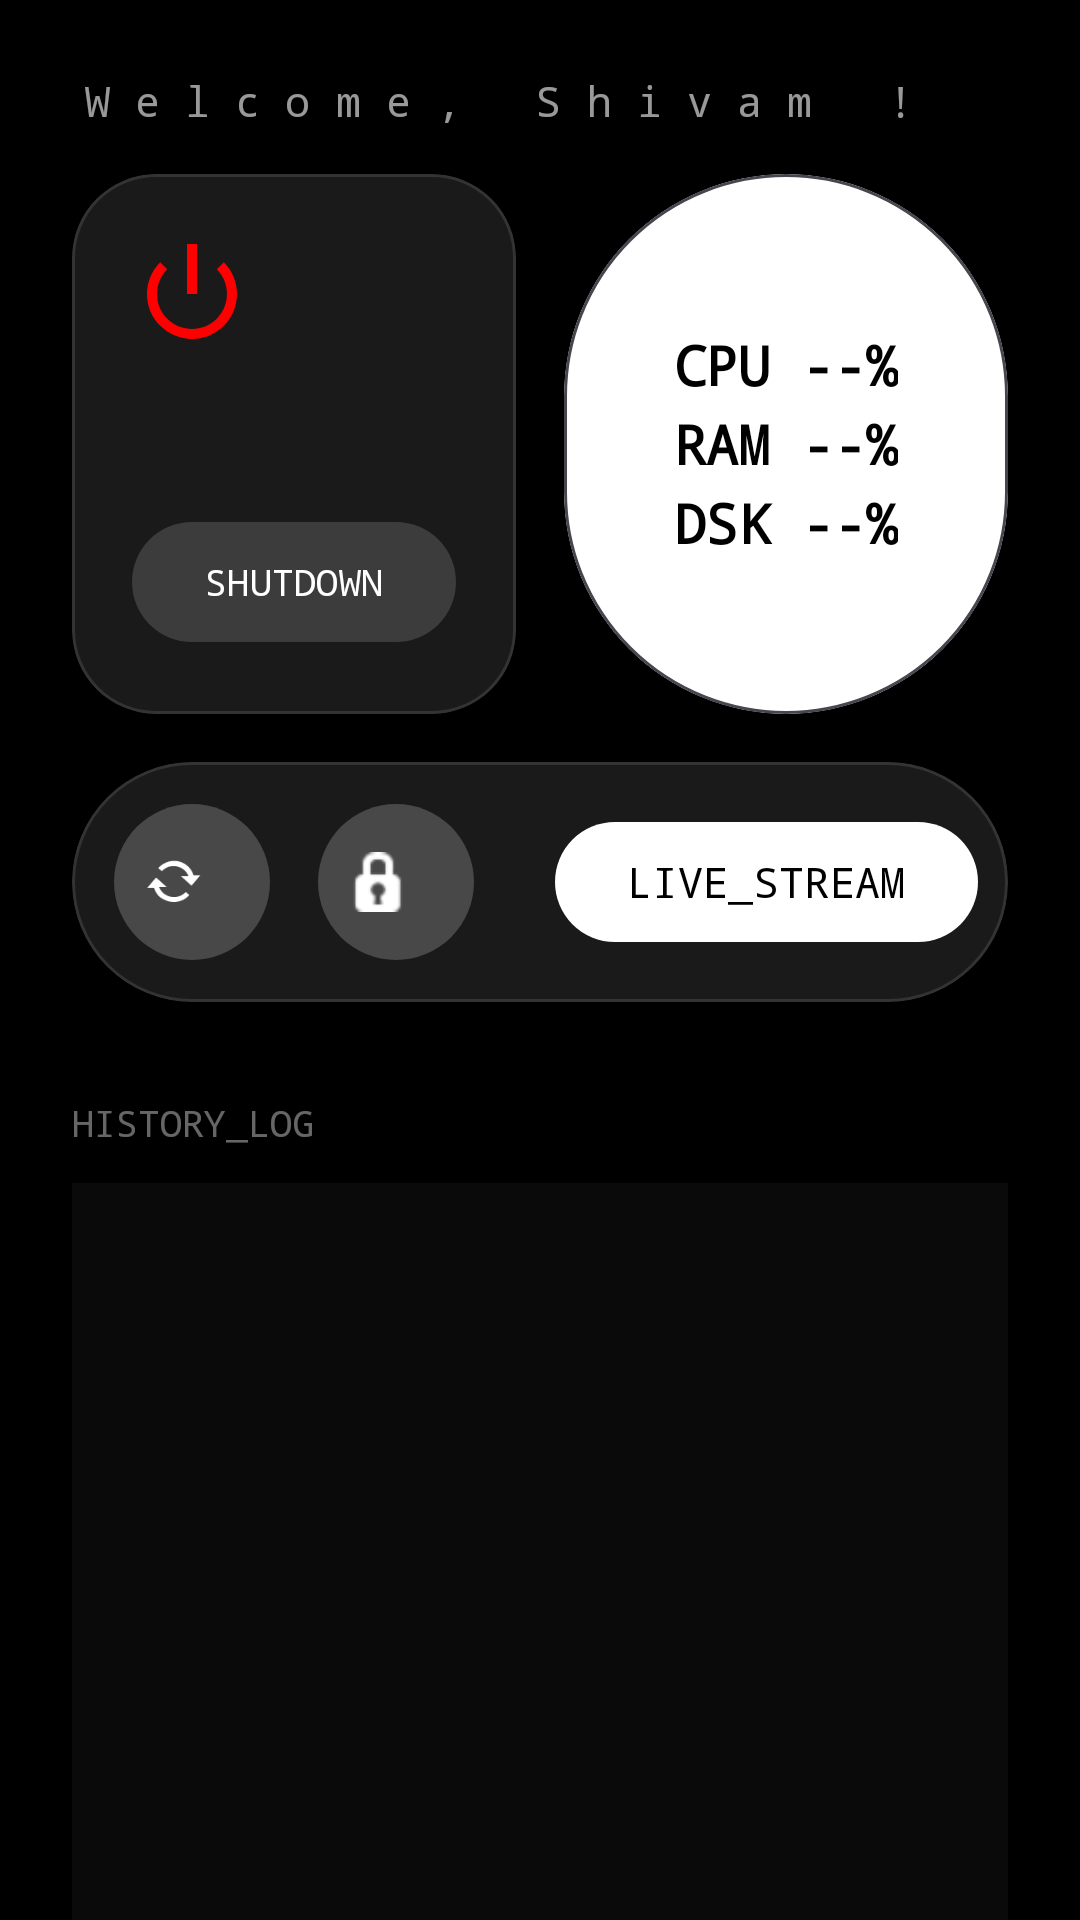

Point at icon controls on the screen. Image size 1080×1920, points as (x=x, y=y).
secure: (x=396, y=882)
sync: (x=192, y=882)
